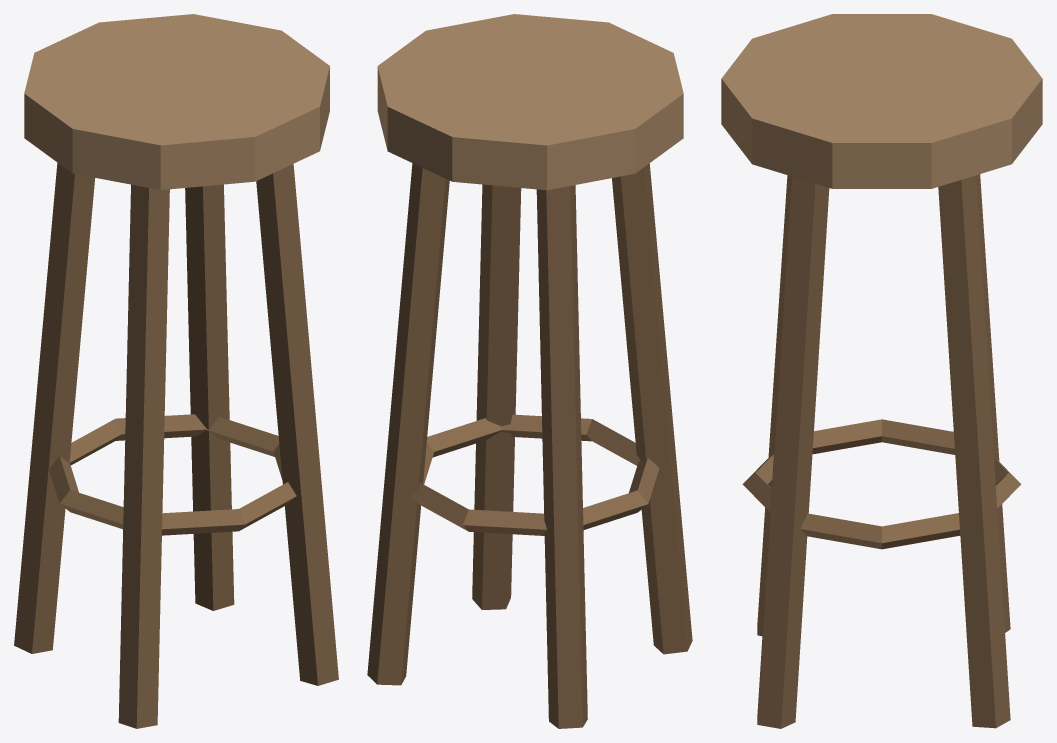
File: SM_Bar_Stool.glb
3 renders of one model, left to right at view 1: azimuth 30°, elevation 25°; view 2: azimuth 150°, elevation 25°; view 3: azimuth 270°, elevation 25°, orthographic. The views are drawn at different scales.
Parts seen in each view (by area): view 1: SM_Bar_Stool; view 2: SM_Bar_Stool; view 3: SM_Bar_Stool.
Part boxes in pixels (x1,y1,x2,y2): SM_Bar_Stool: [14, 14, 338, 728]; SM_Bar_Stool: [367, 14, 692, 728]; SM_Bar_Stool: [721, 14, 1042, 728].
Size of the model in its own units: 0.3614 by 0.7821 by 0.38.
